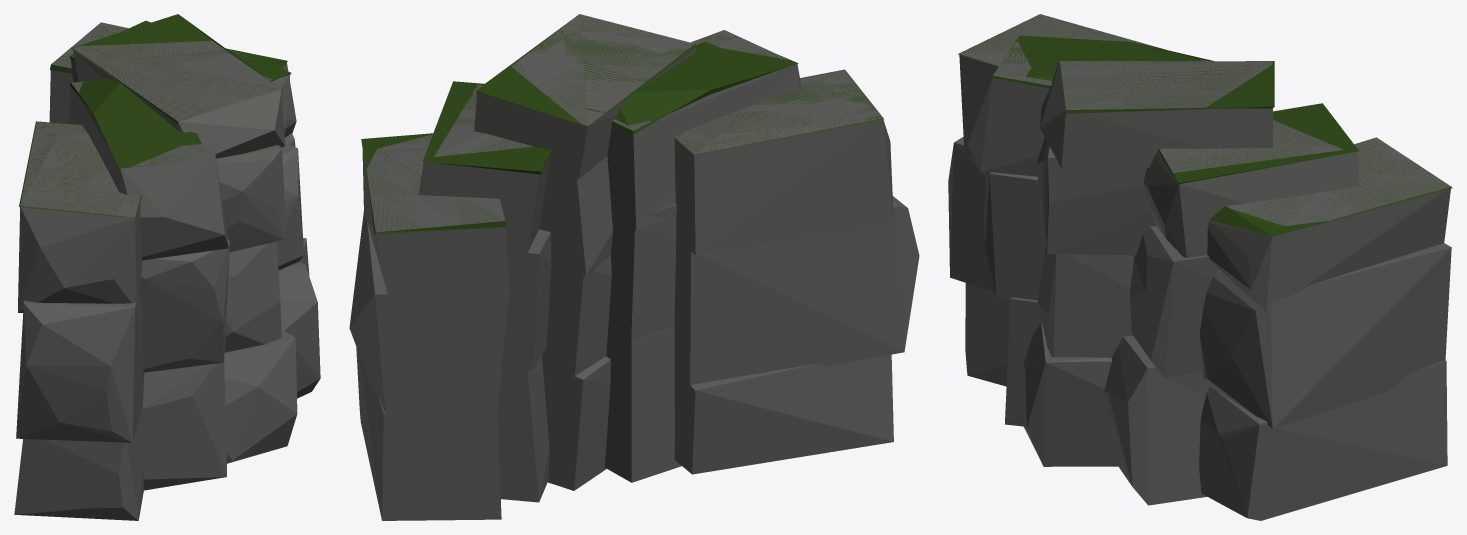
File: acantilado_esquina.fbx
The picture shows the model from 3 angles, left to right: view 1: azimuth 30°, elevation 25°; view 2: azimuth 150°, elevation 25°; view 3: azimuth 270°, elevation 25°; orthographic projection. The views are drawn at different scales.
Visible parts, largest first — view 1: acantilado_esquina; view 2: acantilado_esquina; view 3: acantilado_esquina.
Part boxes in pixels (x1,y1,x2,y2): acantilado_esquina: (14, 14, 320, 520); acantilado_esquina: (349, 14, 919, 520); acantilado_esquina: (948, 14, 1452, 520).
Bounding box in the file's own units: 13.28 × 11.09 × 13.76.
